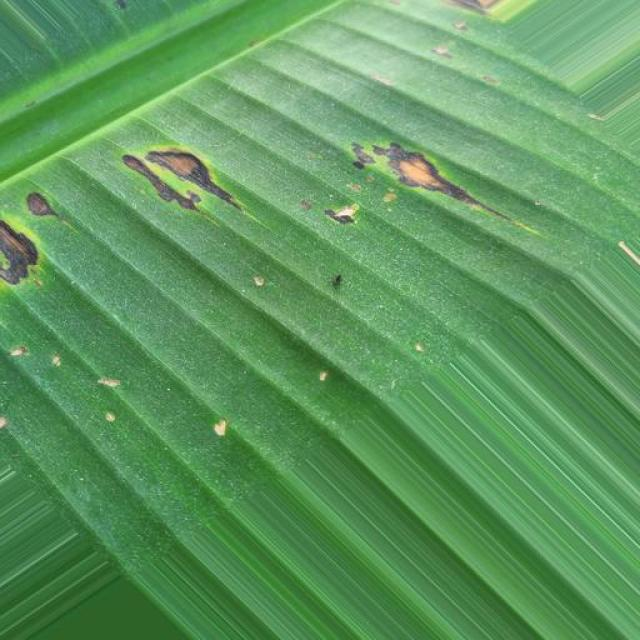Early_rust: (298, 95, 514, 278), (110, 130, 266, 245), (0, 165, 80, 302)
